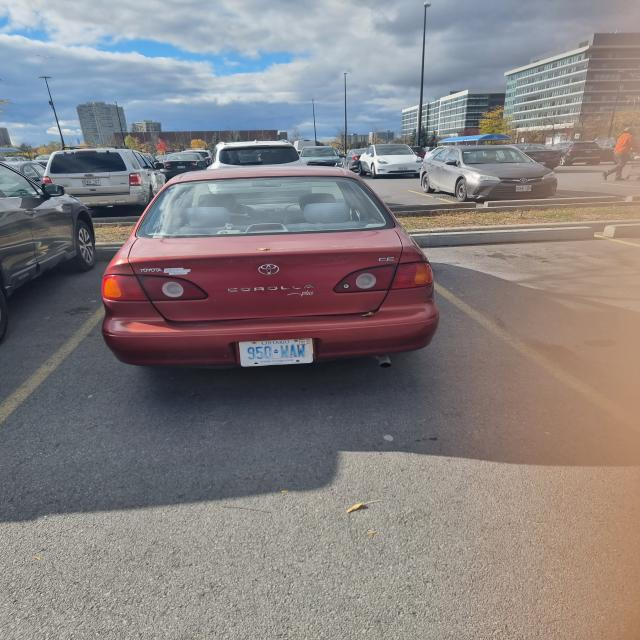plaque: (238, 338, 313, 367), (82, 179, 100, 185), (516, 185, 531, 191), (399, 166, 407, 170), (585, 150, 592, 153), (177, 166, 185, 168)
